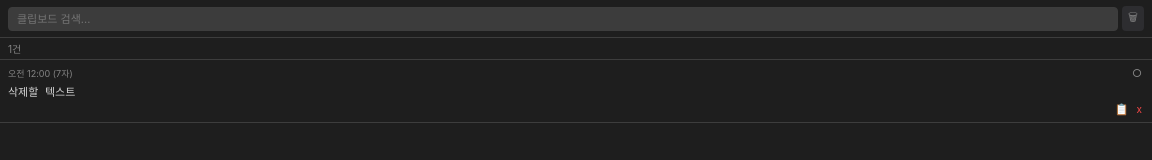
ClipboardPanel › x 버튼 클릭 시 항목이 삭제된다
What coordinates should you click on to do the following:
click the button "x"
I would click on:
 (1139, 109)
Its box is [1134, 103, 1144, 115].
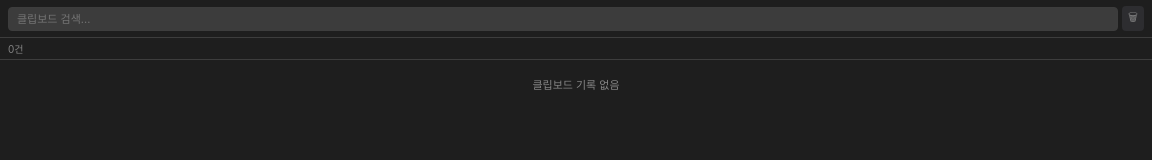
Expected: the text "삭제할 텍스트" is gone
